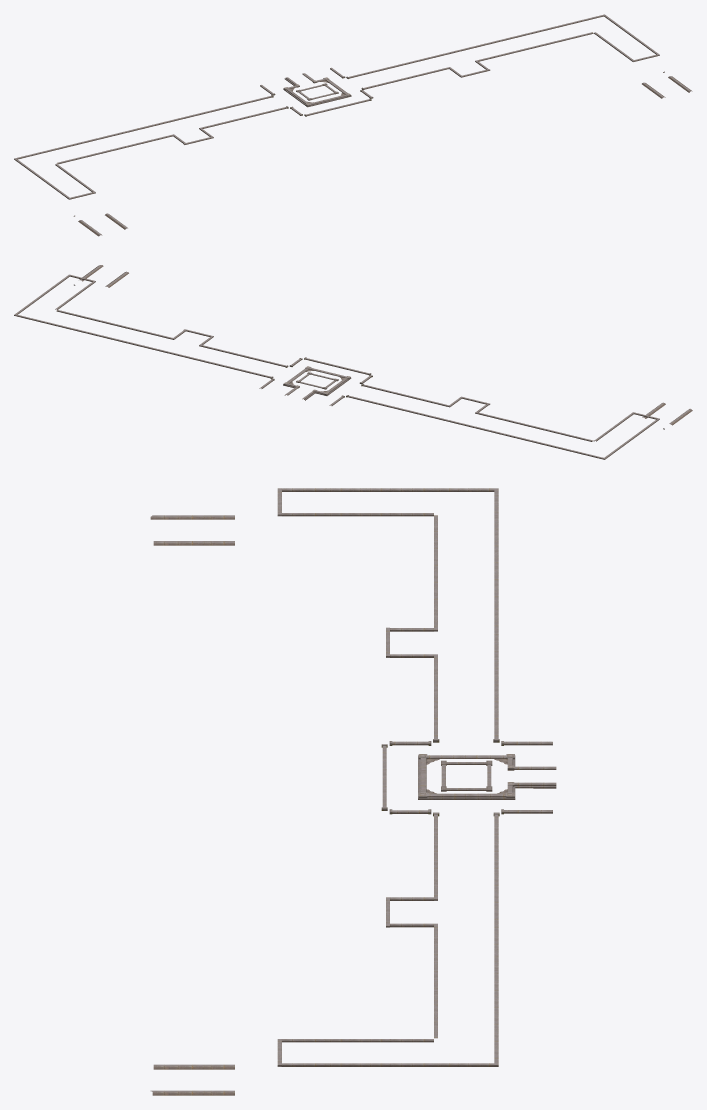
3 views of the same model, one above another, from view 1: azimuth 30°, elevation 25°; view 2: azimuth 150°, elevation 25°; view 3: azimuth 270°, elevation 25° (orthographic). The views are drawn at different scales.
Visible parts, largest first — view 1: Object029; view 2: Object029; view 3: Object029.
Boxes of the visible parts, x1,y1,x2,y2 form: Object029: [14, 14, 692, 236]; Object029: [14, 265, 692, 459]; Object029: [150, 488, 556, 1095].
Size of the model in its own units: 3440 by 84.18 by 1017.
